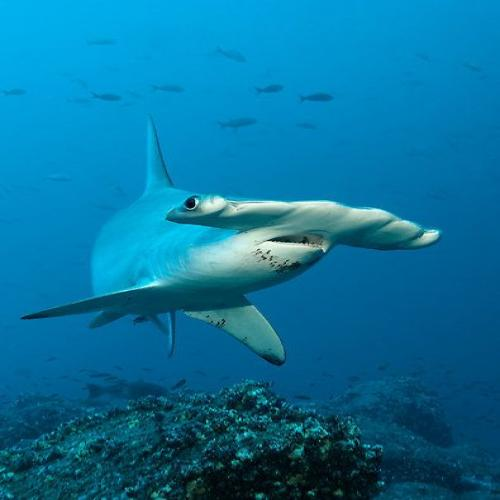shark-endangered: (20, 112, 444, 368)
